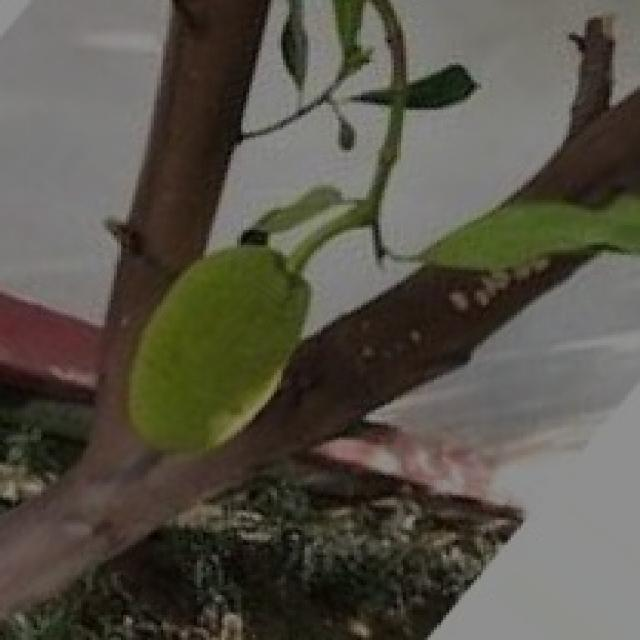Fruit: (96, 220, 330, 480)
